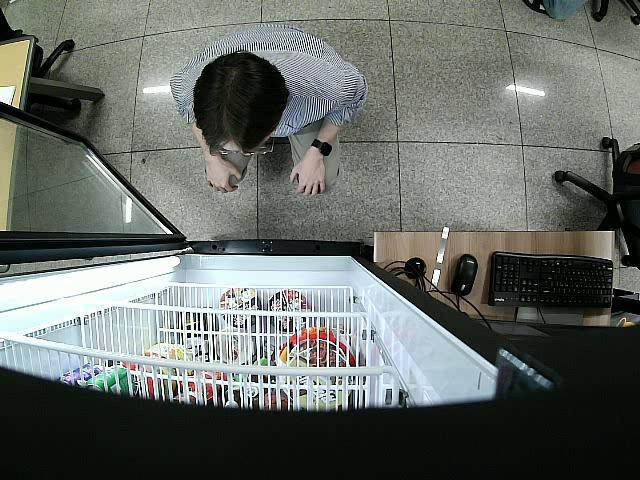00_hand: (289, 158, 327, 195), (205, 162, 243, 194)
